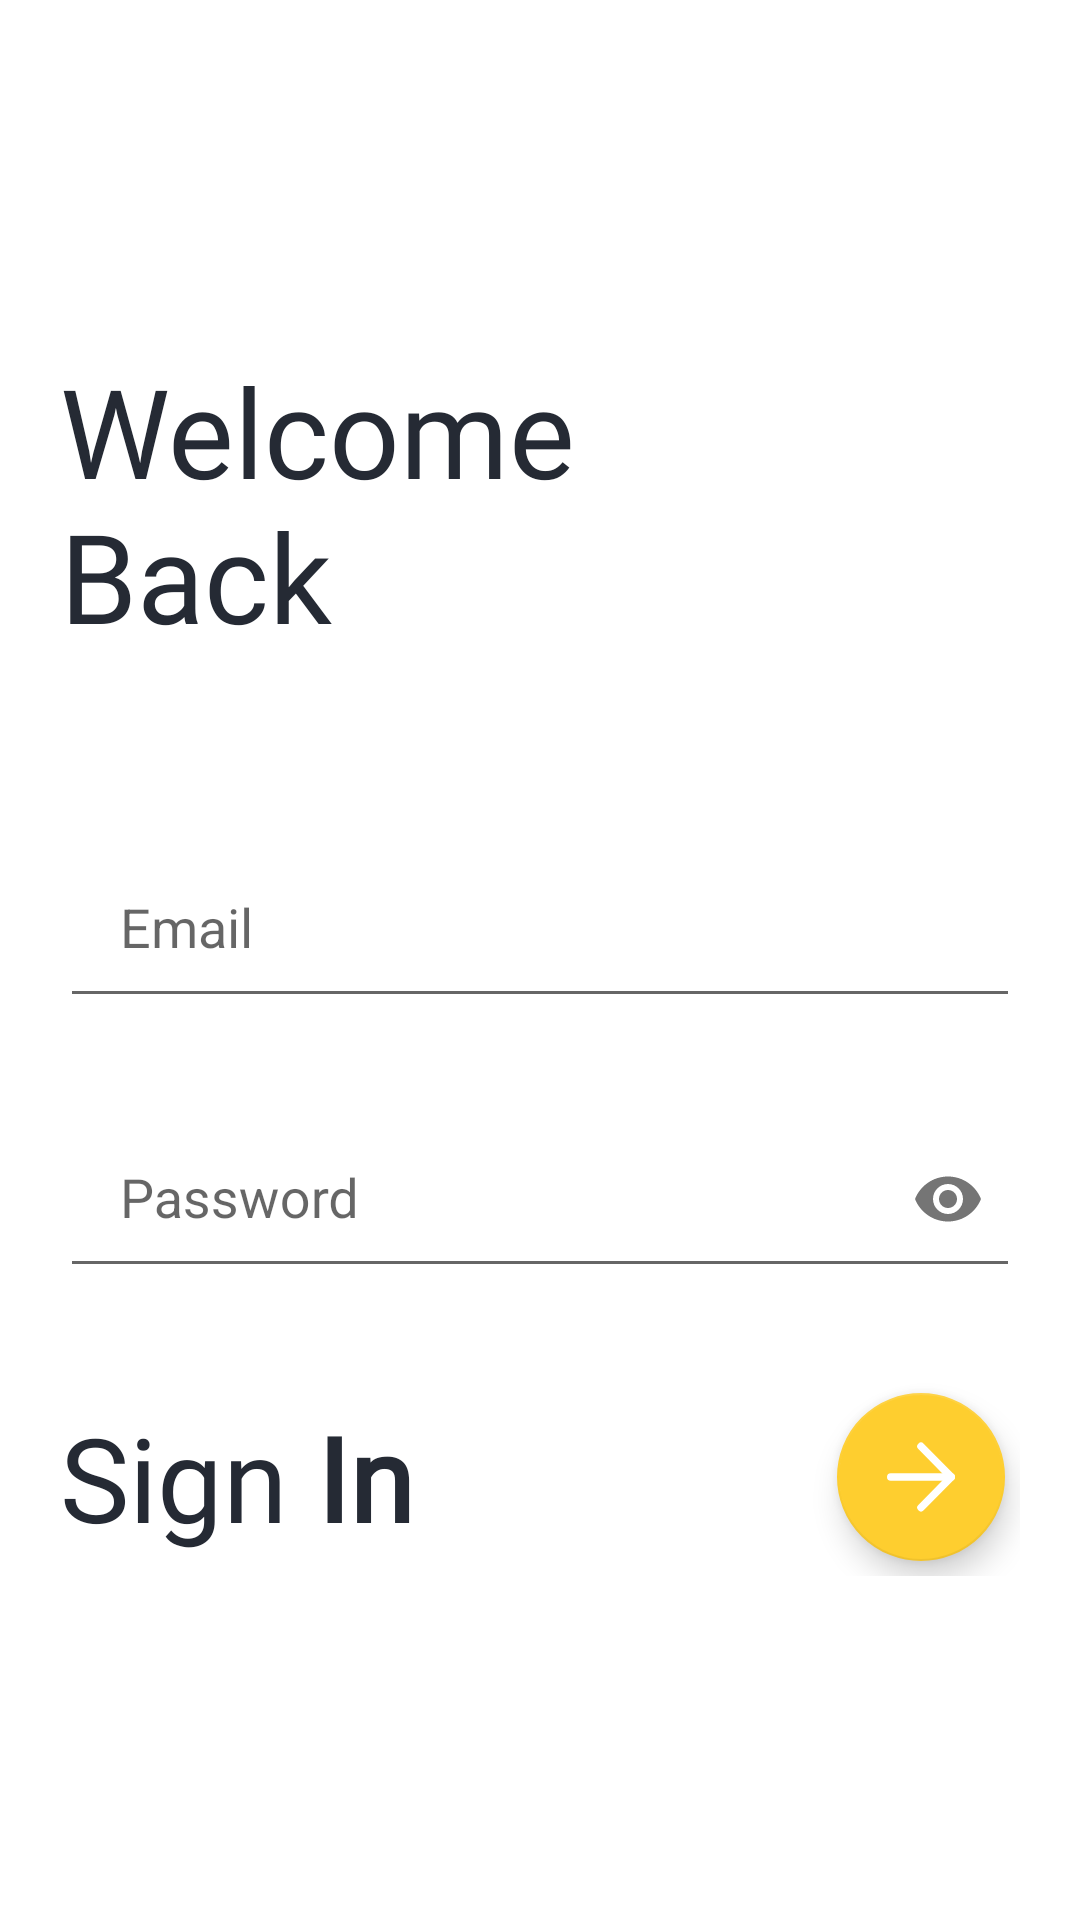

Icon click points for this 1080x1920 phone screenshot, format [x,y]:
feather arrow right: [921,1477]
